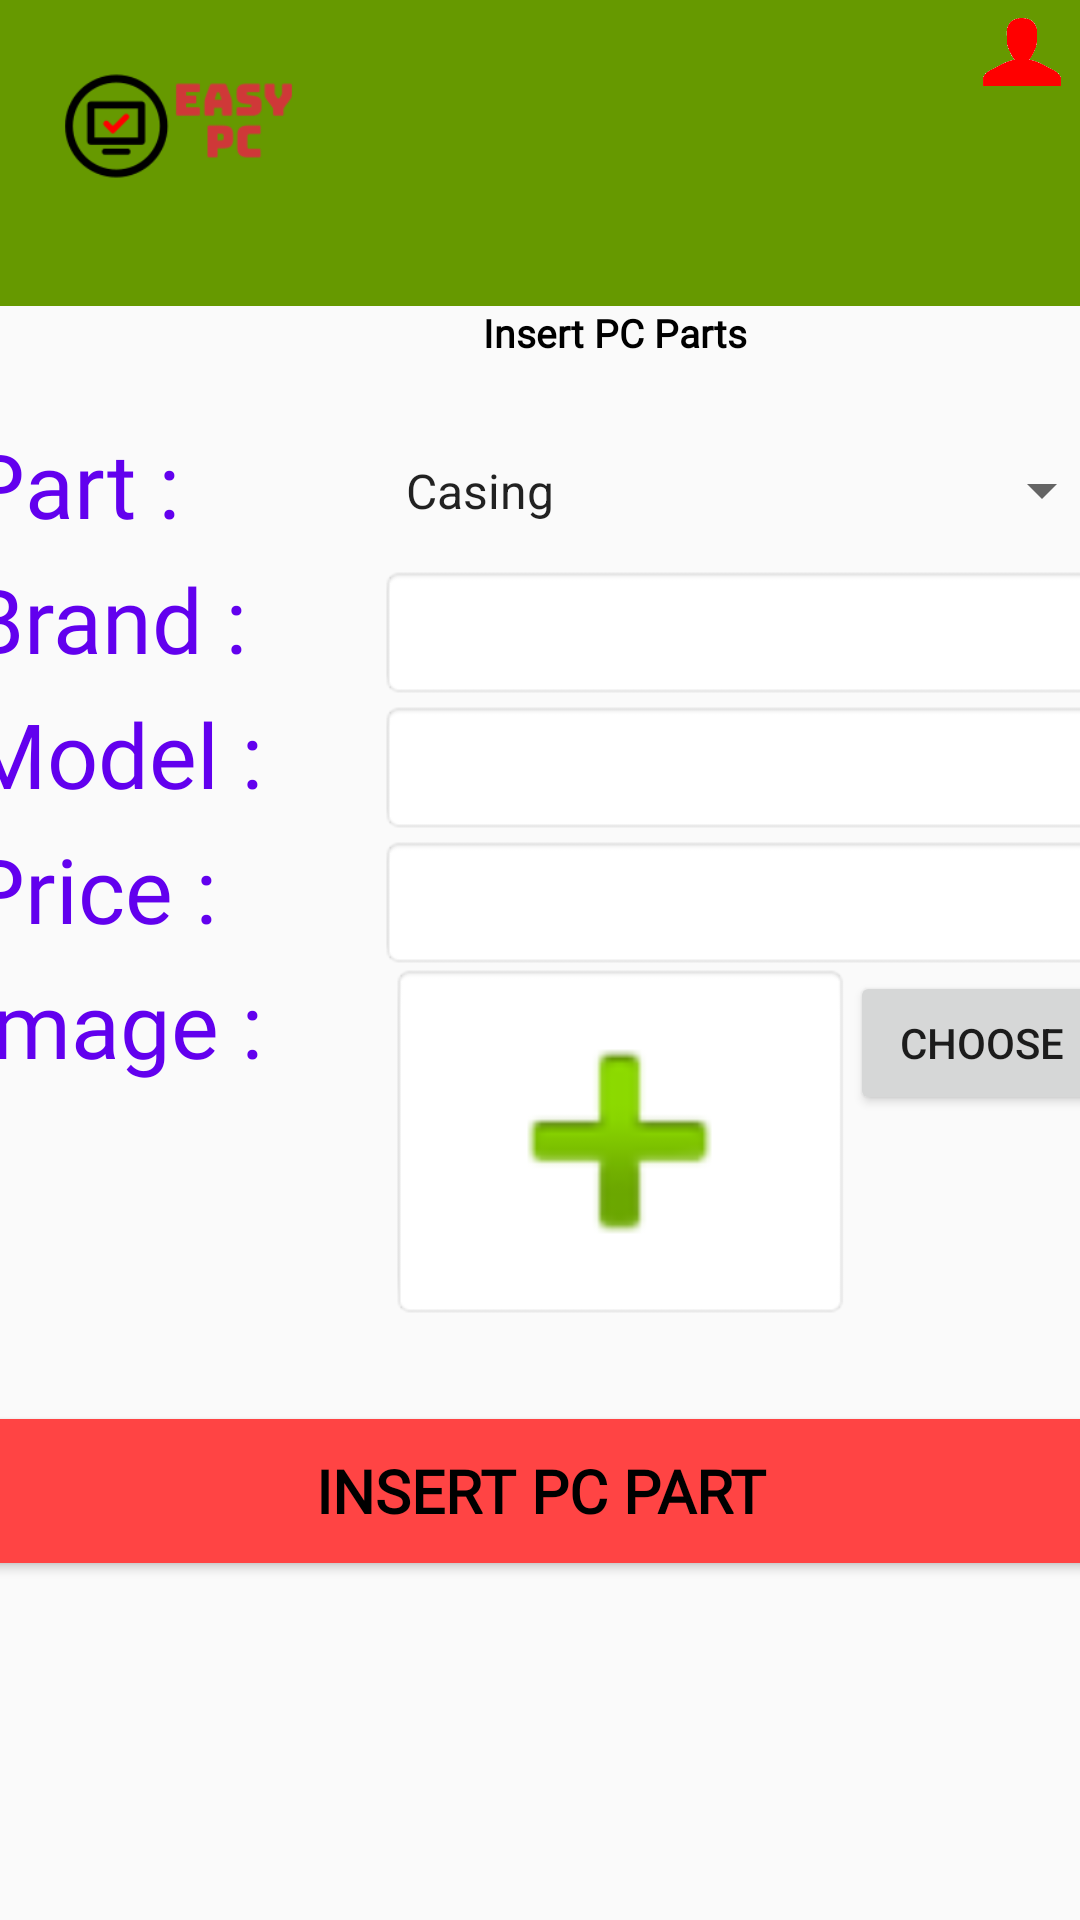

Locate icon controls on the screen. Image size 1080px x 1920px, boxes as bbox=(x1, y1, x2, y2).
add: bbox=(401, 975, 711, 1308)
